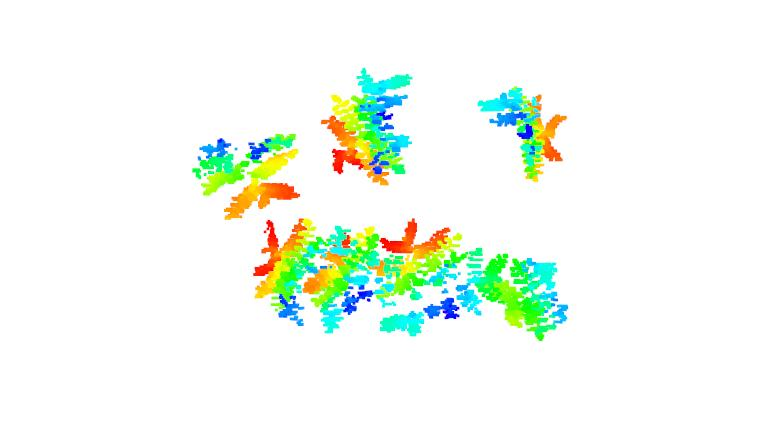chickpea: (313, 63, 418, 188), (464, 242, 582, 344), (181, 124, 298, 222), (378, 212, 461, 334), (476, 82, 570, 184), (244, 204, 312, 329), (301, 222, 380, 329)
